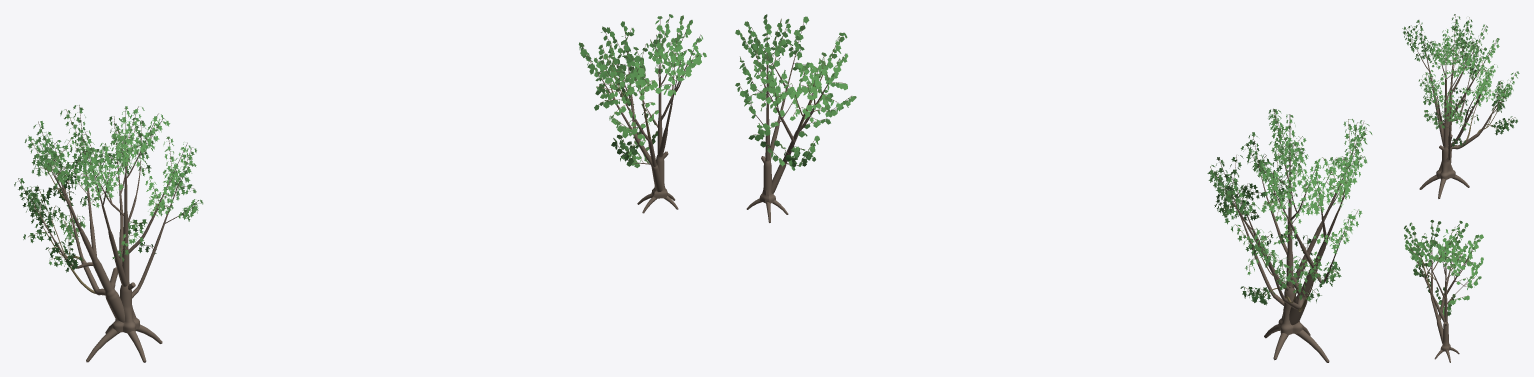
The model's file is sweetgum.glb.
The picture shows the model from 3 angles, left to right: view 1: azimuth 30°, elevation 25°; view 2: azimuth 150°, elevation 25°; view 3: azimuth 270°, elevation 25°; orthographic projection. The views are drawn at different scales.
Visible parts, largest first — view 1: Sweetgum/Leaves_Leaf, Sweetgum_Lite/Leaves_Leaf, Sweetgum/Leaders, Sweetgum/Branches, Sweetgum/Trunk_Roots, Sweetgum_Lite/Branches, Sweetgum_Lite/Leaders, Sweetgum_Lite/Trunk_Roots, Sweetgum/Twigs, Sweetgum_Lite/Twigs; view 2: Sweetgum/Leaves_Leaf, Sweetgum_Lite/Leaves_Leaf, Sweetgum/Leaders, Sweetgum/Trunk_Roots, Sweetgum/Branches, Sweetgum_Lite/Trunk_Roots, Sweetgum_Lite/Leaders, Sweetgum/Twigs, Sweetgum_Lite/Branches, Sweetgum_Lite/Twigs; view 3: Sweetgum/Leaves_Leaf, Sweetgum_Lite/Leaves_Leaf, Sweetgum/Branches, Sweetgum/Leaders, Sweetgum/Trunk_Roots, Sweetgum_Lite/Branches, Sweetgum_Lite/Leaders, Sweetgum_Lite/Trunk_Roots, Sweetgum/Twigs, Sweetgum_Lite/Twigs.
Part boxes in pixels (left/top/right/bottom): Sweetgum/Leaves_Leaf: left=14, top=105, right=203, bottom=272; Sweetgum_Lite/Leaves_Leaf: left=578, top=14, right=706, bottom=167; Sweetgum/Leaders: left=38, top=106, right=191, bottom=322; Sweetgum/Branches: left=18, top=105, right=198, bottom=295; Sweetgum/Trunk_Roots: left=86, top=107, right=162, bottom=362; Sweetgum_Lite/Branches: left=581, top=14, right=700, bottom=166; Sweetgum_Lite/Leaders: left=624, top=16, right=682, bottom=191; Sweetgum_Lite/Trunk_Roots: left=637, top=28, right=678, bottom=213; Sweetgum/Twigs: left=28, top=109, right=196, bottom=293; Sweetgum_Lite/Twigs: left=581, top=15, right=698, bottom=162; Sweetgum/Leaves_Leaf: left=1207, top=109, right=1372, bottom=305; Sweetgum_Lite/Leaves_Leaf: left=735, top=14, right=856, bottom=170; Sweetgum/Leaders: left=1218, top=109, right=1366, bottom=325; Sweetgum/Trunk_Roots: left=1264, top=114, right=1329, bottom=362; Sweetgum/Branches: left=1214, top=109, right=1364, bottom=309; Sweetgum_Lite/Trunk_Roots: left=746, top=38, right=788, bottom=222; Sweetgum_Lite/Leaders: left=754, top=16, right=805, bottom=193; Sweetgum/Twigs: left=1210, top=119, right=1358, bottom=311; Sweetgum_Lite/Branches: left=744, top=14, right=845, bottom=165; Sweetgum_Lite/Twigs: left=738, top=19, right=854, bottom=163; Sweetgum/Leaves_Leaf: left=1402, top=14, right=1519, bottom=146; Sweetgum_Lite/Leaves_Leaf: left=1404, top=220, right=1483, bottom=315; Sweetgum/Branches: left=1407, top=14, right=1515, bottom=149; Sweetgum/Leaders: left=1419, top=23, right=1494, bottom=162; Sweetgum/Trunk_Roots: left=1419, top=53, right=1469, bottom=198; Sweetgum_Lite/Branches: left=1412, top=220, right=1480, bottom=321; Sweetgum_Lite/Leaders: left=1405, top=234, right=1478, bottom=343; Sweetgum_Lite/Trunk_Roots: left=1424, top=252, right=1459, bottom=362; Sweetgum/Twigs: left=1405, top=17, right=1512, bottom=140; Sweetgum_Lite/Twigs: left=1408, top=221, right=1476, bottom=308.
Size of the model in its own units: 6.1 by 2.2 by 1.44.
